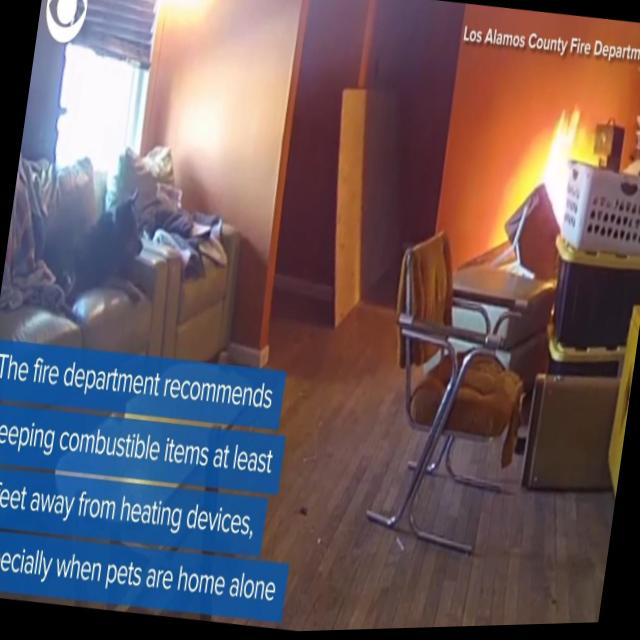fire: (517, 92, 590, 247)
